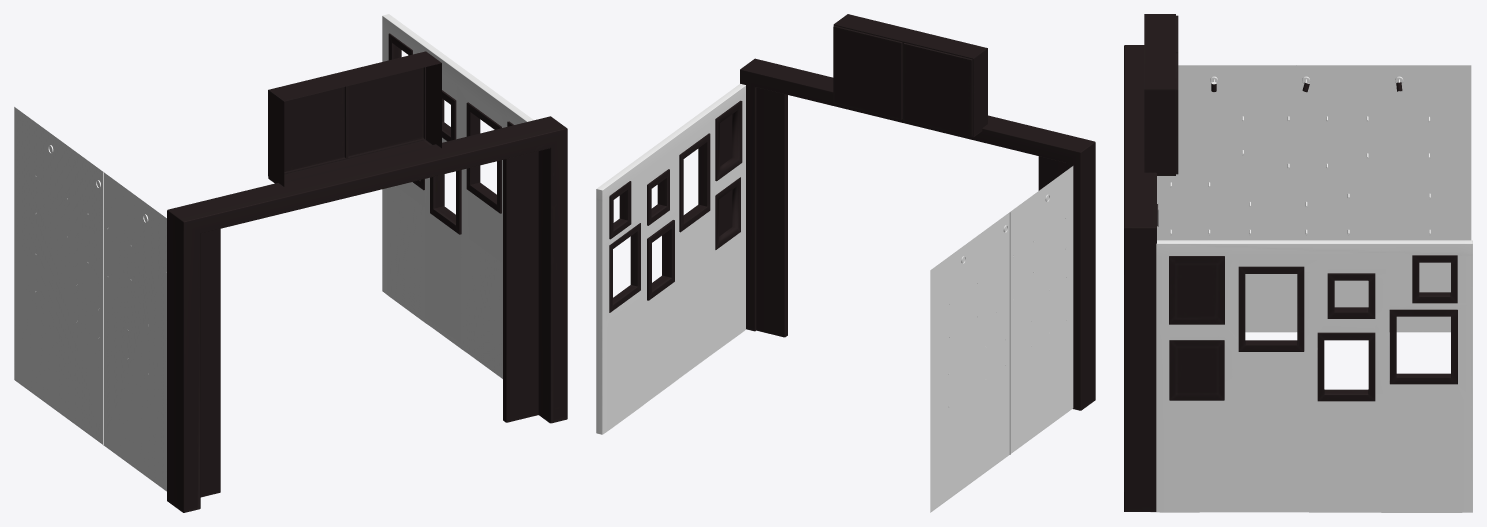
The model's file is entrance.fbx.
3 views of the same model, side by side, from view 1: azimuth 30°, elevation 25°; view 2: azimuth 150°, elevation 25°; view 3: azimuth 270°, elevation 25° (orthographic). The views are drawn at different scales.
Visible parts, largest first — view 1: glass_wall, black_frame_entry, side_statue_wall, entry_cupbaord, pllar1, pllar2; view 2: side_statue_wall, glass_wall, black_frame_entry, entry_cupbaord, pllar1, pllar2; view 3: side_statue_wall, glass_wall, black_frame_entry, entry_cupbaord.
Part boxes in pixels (left/top/right/bottom): glass_wall: left=14, top=107, right=166, bottom=491; black_frame_entry: left=167, top=116, right=567, bottom=512; side_statue_wall: left=382, top=14, right=533, bottom=378; entry_cupbaord: left=268, top=51, right=441, bottom=186; pllar1: left=503, top=151, right=538, bottom=422; pllar2: left=200, top=229, right=220, bottom=497; side_statue_wall: left=596, top=84, right=745, bottom=434; glass_wall: left=930, top=166, right=1073, bottom=512; black_frame_entry: left=740, top=58, right=1095, bottom=410; entry_cupbaord: left=833, top=14, right=987, bottom=137; pllar1: left=756, top=87, right=787, bottom=337; pllar2: left=1038, top=156, right=1065, bottom=190; side_statue_wall: left=1151, top=240, right=1472, bottom=512; glass_wall: left=1157, top=65, right=1471, bottom=332; black_frame_entry: left=1124, top=45, right=1156, bottom=511; entry_cupbaord: left=1144, top=14, right=1178, bottom=175.
Size of the model in its own units: 403 by 377 by 323.
Materials: 1 (1 with a texture image).
